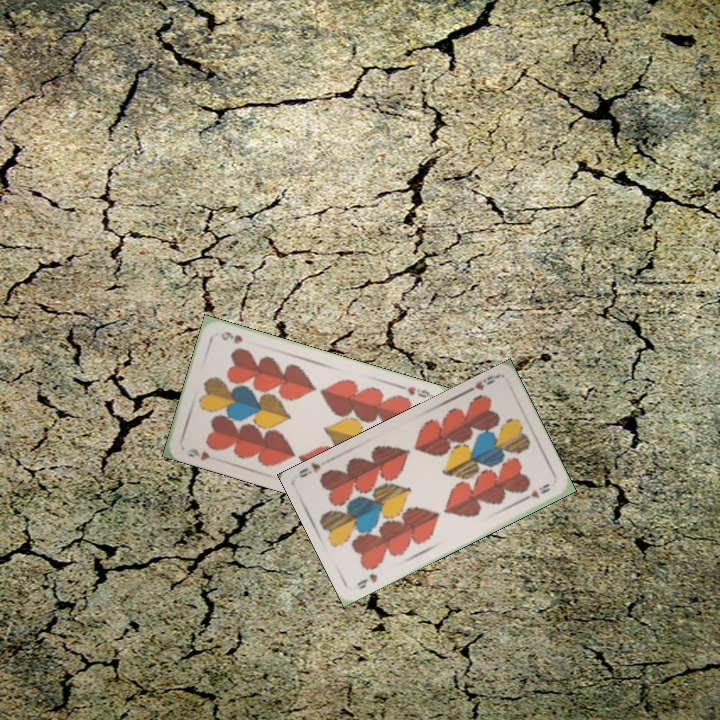H9: (463, 371, 501, 395), (353, 569, 380, 592), (403, 382, 435, 400), (184, 444, 213, 463)
